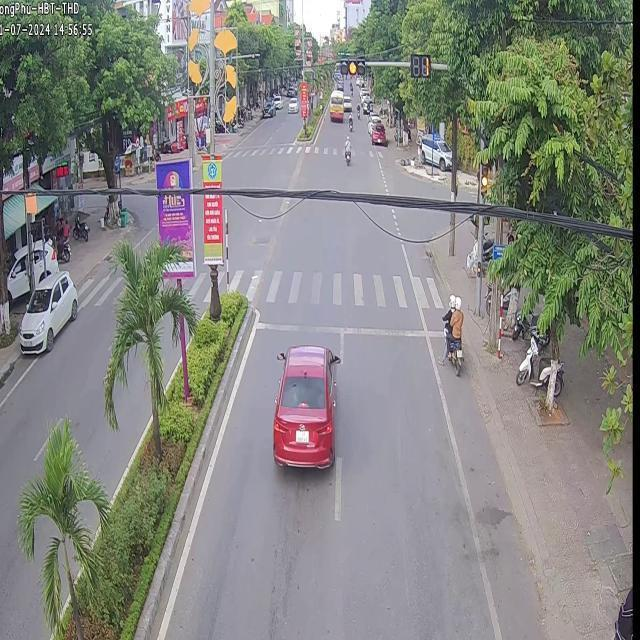car: (270, 344, 334, 470), (18, 269, 76, 351), (6, 245, 28, 302), (417, 131, 450, 169), (32, 238, 42, 285), (328, 87, 342, 120), (43, 238, 57, 271), (369, 118, 386, 144), (259, 96, 274, 116), (272, 89, 282, 107), (286, 96, 297, 111), (342, 94, 350, 110)
motobike: (438, 294, 462, 374), (514, 327, 539, 382), (510, 309, 536, 338), (530, 362, 549, 388), (552, 360, 562, 396), (342, 134, 349, 165), (538, 327, 548, 345), (346, 111, 352, 129)
stop_line: (255, 321, 442, 336)
yellow_light: (339, 55, 367, 75), (411, 53, 431, 79), (479, 161, 489, 198)
